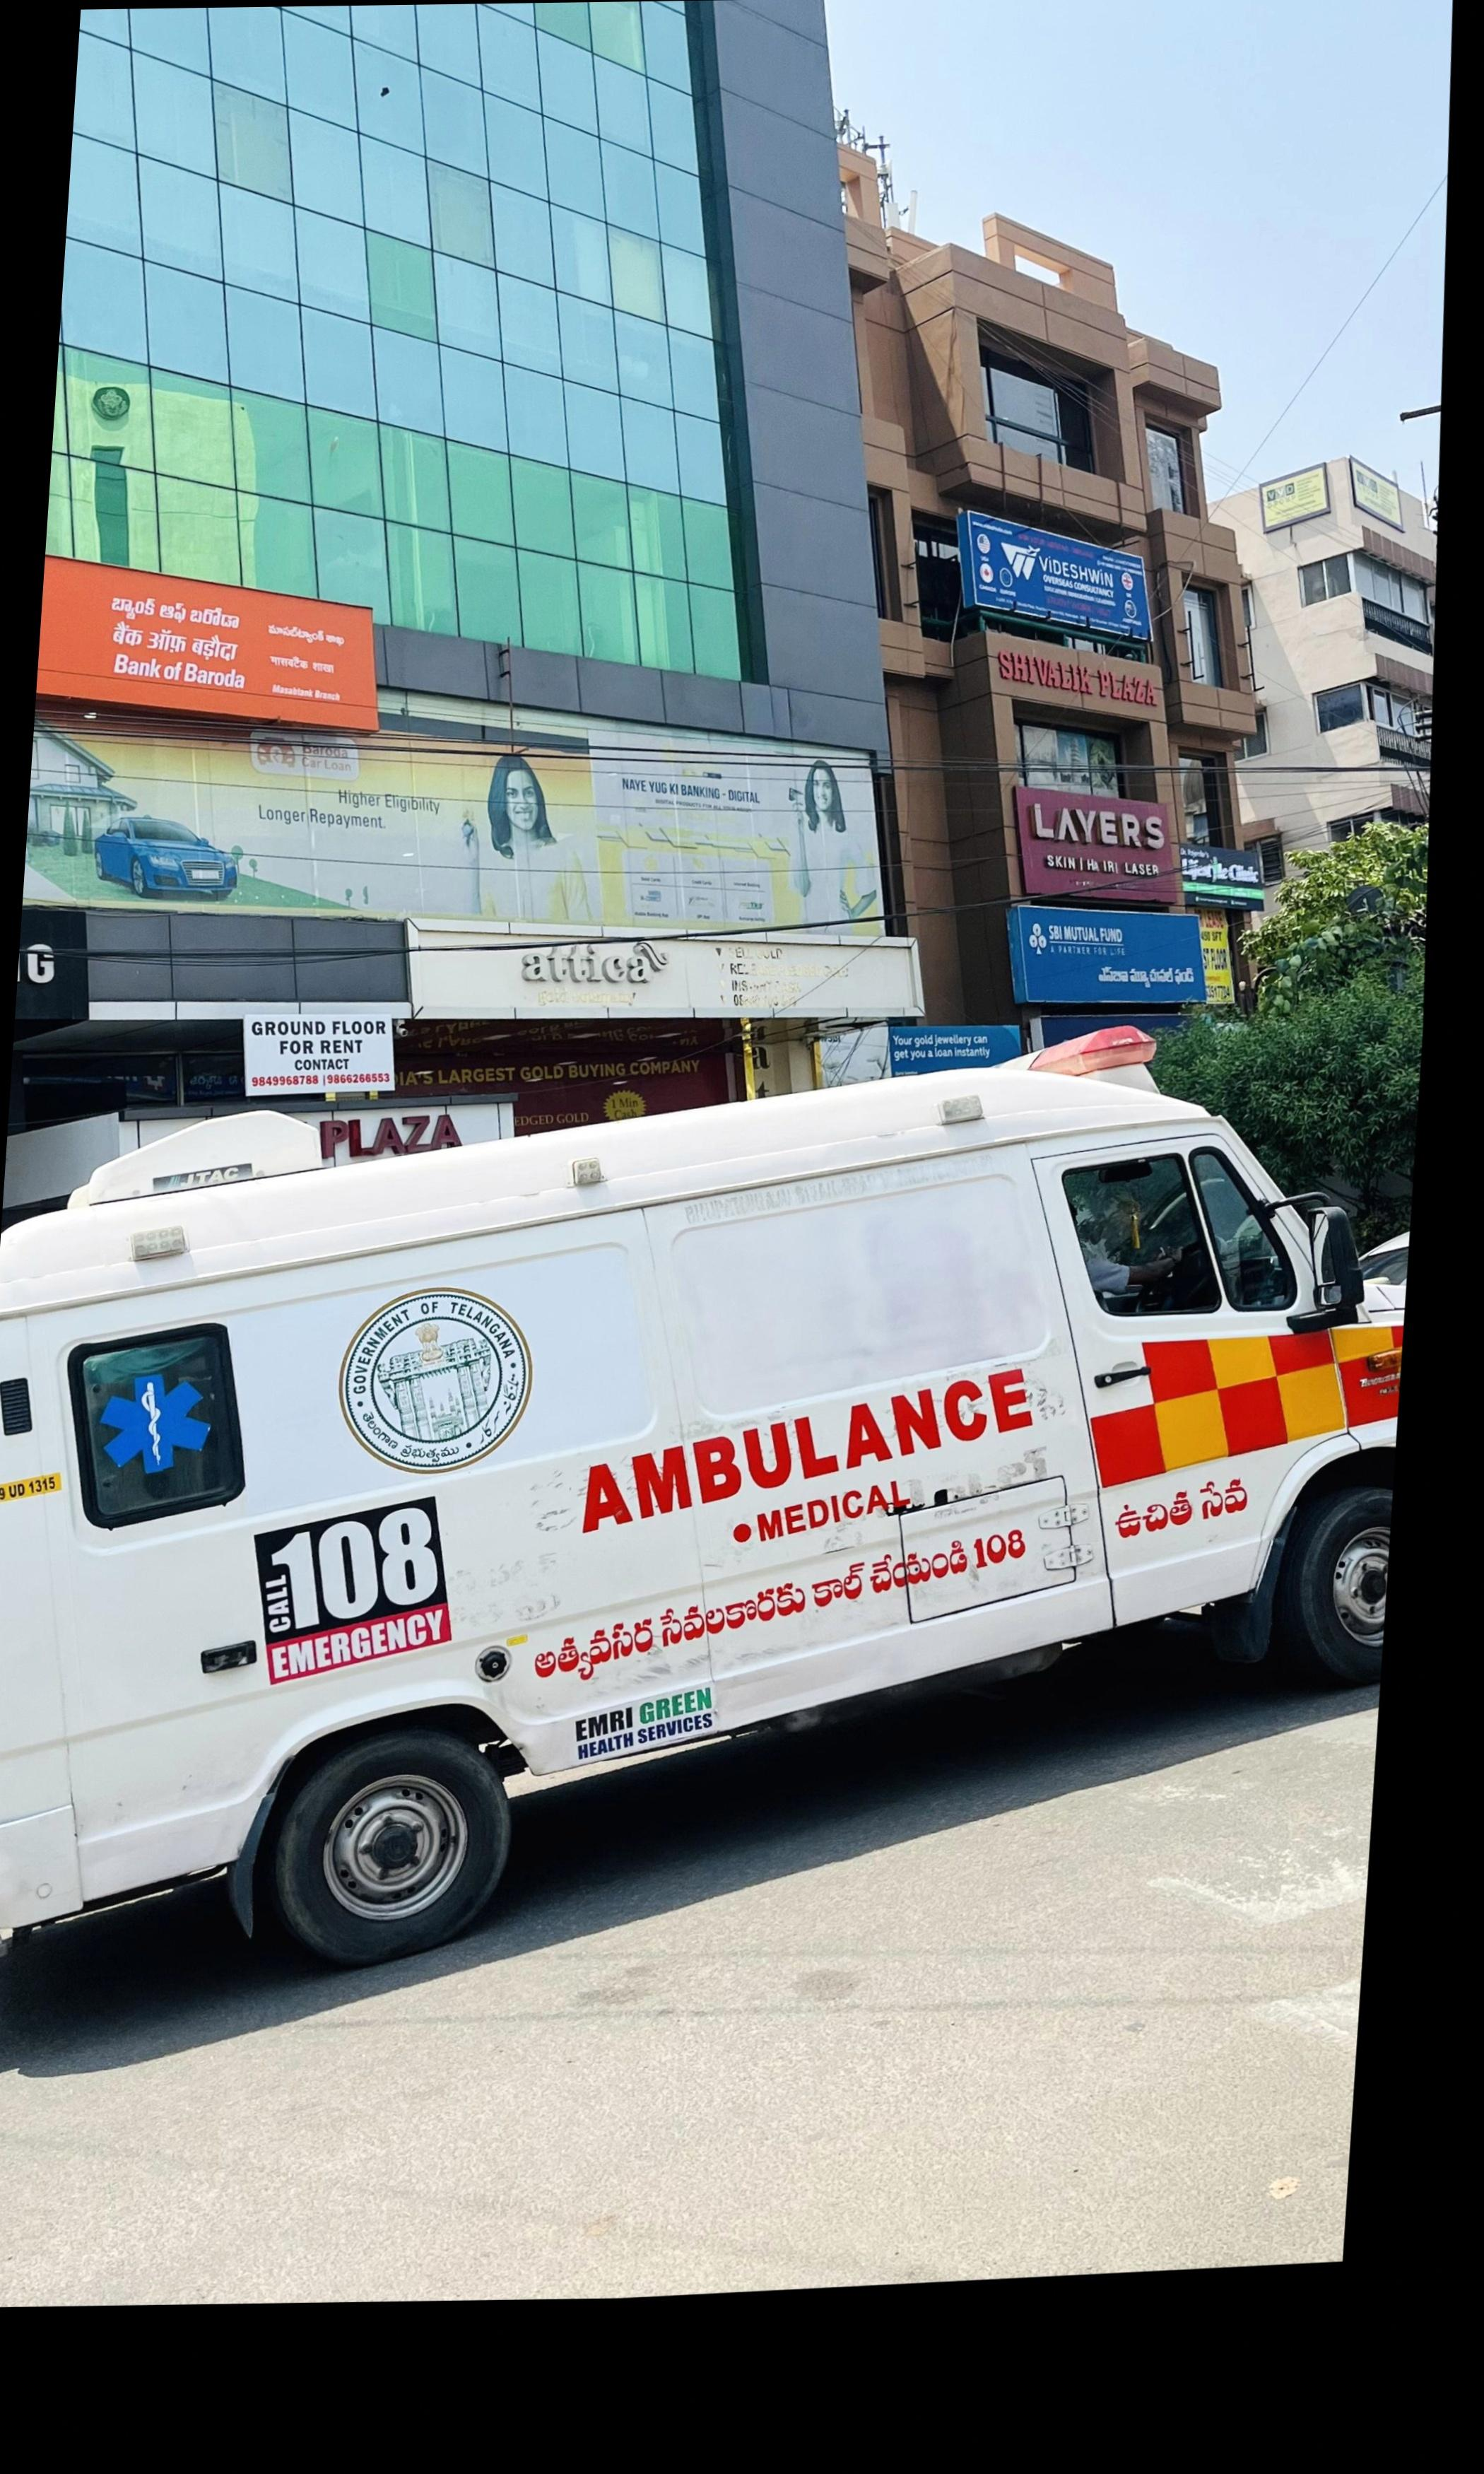ambulance: (0, 1055, 1403, 1972)
